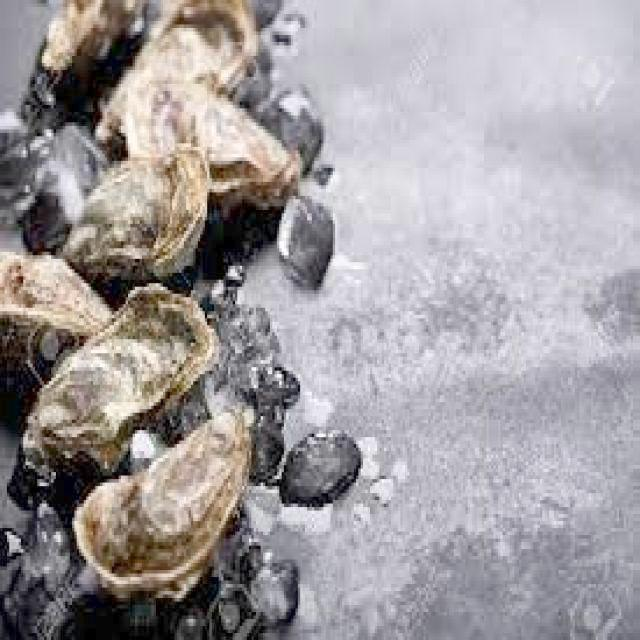Oyster-Closed: (70, 411, 254, 599), (29, 287, 215, 455), (97, 0, 261, 157), (63, 151, 212, 265), (175, 93, 301, 210), (0, 250, 119, 335), (34, 0, 148, 75)
